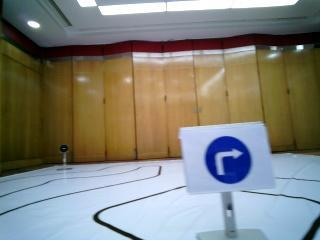right: (181, 127, 268, 186)
